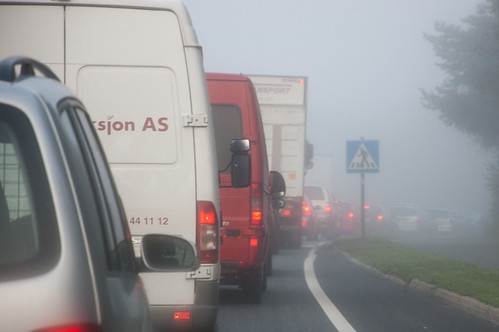sign: (344, 134, 381, 179)
tree: (420, 1, 499, 148)
van: (1, 1, 219, 327), (183, 68, 275, 291)
